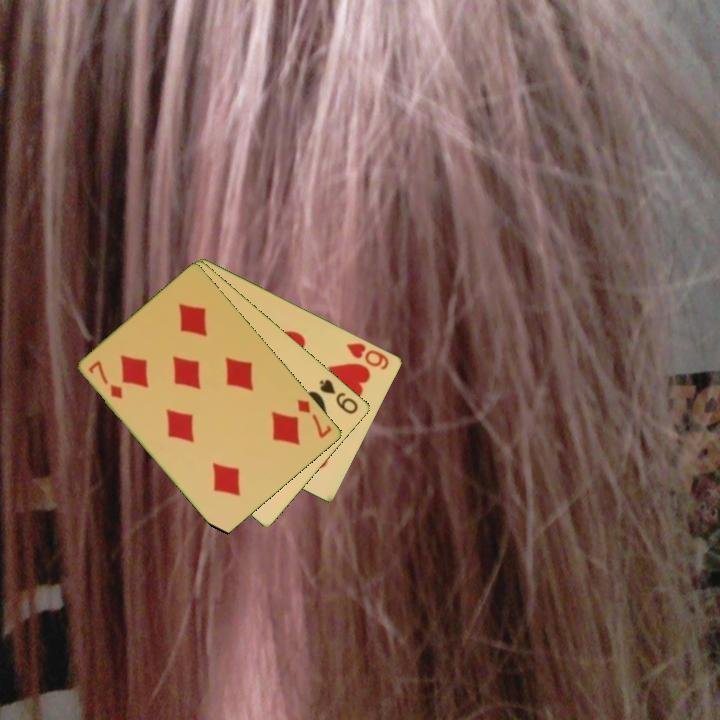6h: (343, 339, 392, 372)
7d: (294, 396, 335, 441), (85, 357, 126, 402)
9s: (316, 376, 361, 417)
